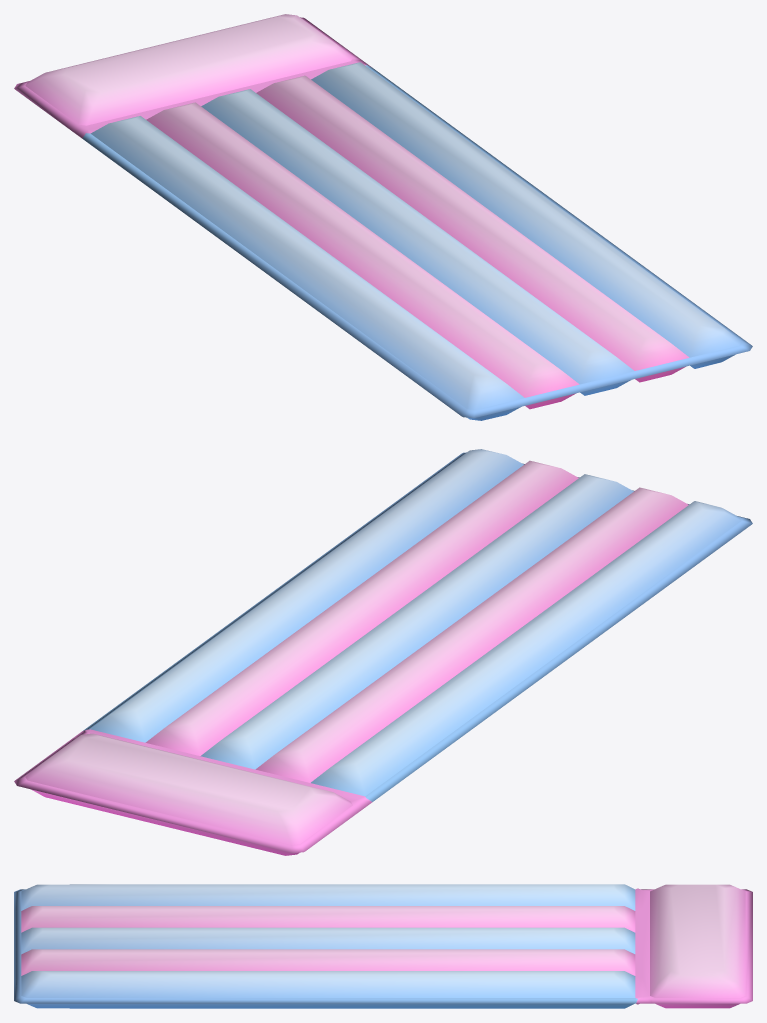
The model's file is Mattress_Stripes_D.fbx.
3 views of the same model, one above another, from view 1: azimuth 30°, elevation 25°; view 2: azimuth 150°, elevation 25°; view 3: azimuth 270°, elevation 25° (orthographic). The views are drawn at different scales.
Parts seen in each view (by area): view 1: Mattress_Stripes_D; view 2: Mattress_Stripes_D; view 3: Mattress_Stripes_D.
Boxes of the visible parts, bbox=[...] form: Mattress_Stripes_D: bbox=[14, 14, 752, 420]; Mattress_Stripes_D: bbox=[14, 449, 752, 855]; Mattress_Stripes_D: bbox=[14, 884, 752, 1008].
Size of the model in its own units: 79.6 by 10.83 by 217.
